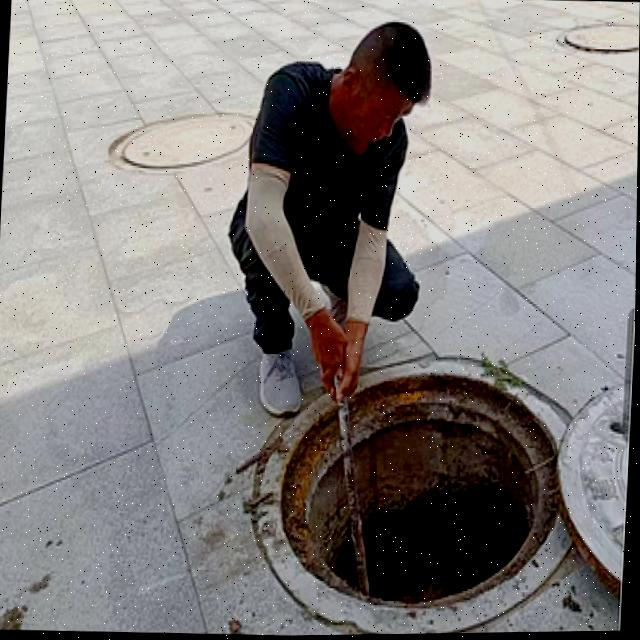manhole: (241, 345, 579, 637)
